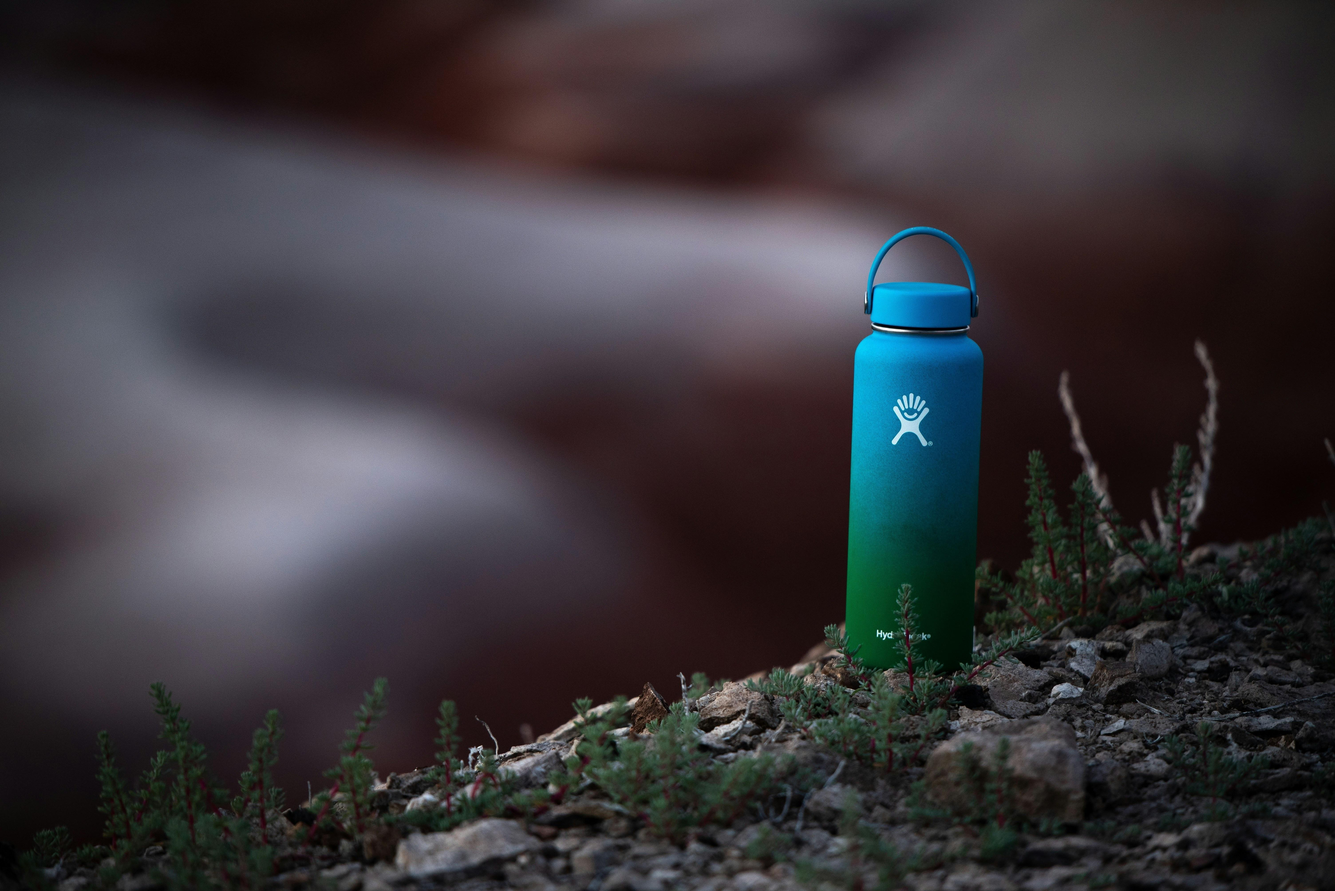Bottle-Detection: (790, 169, 1034, 728)
